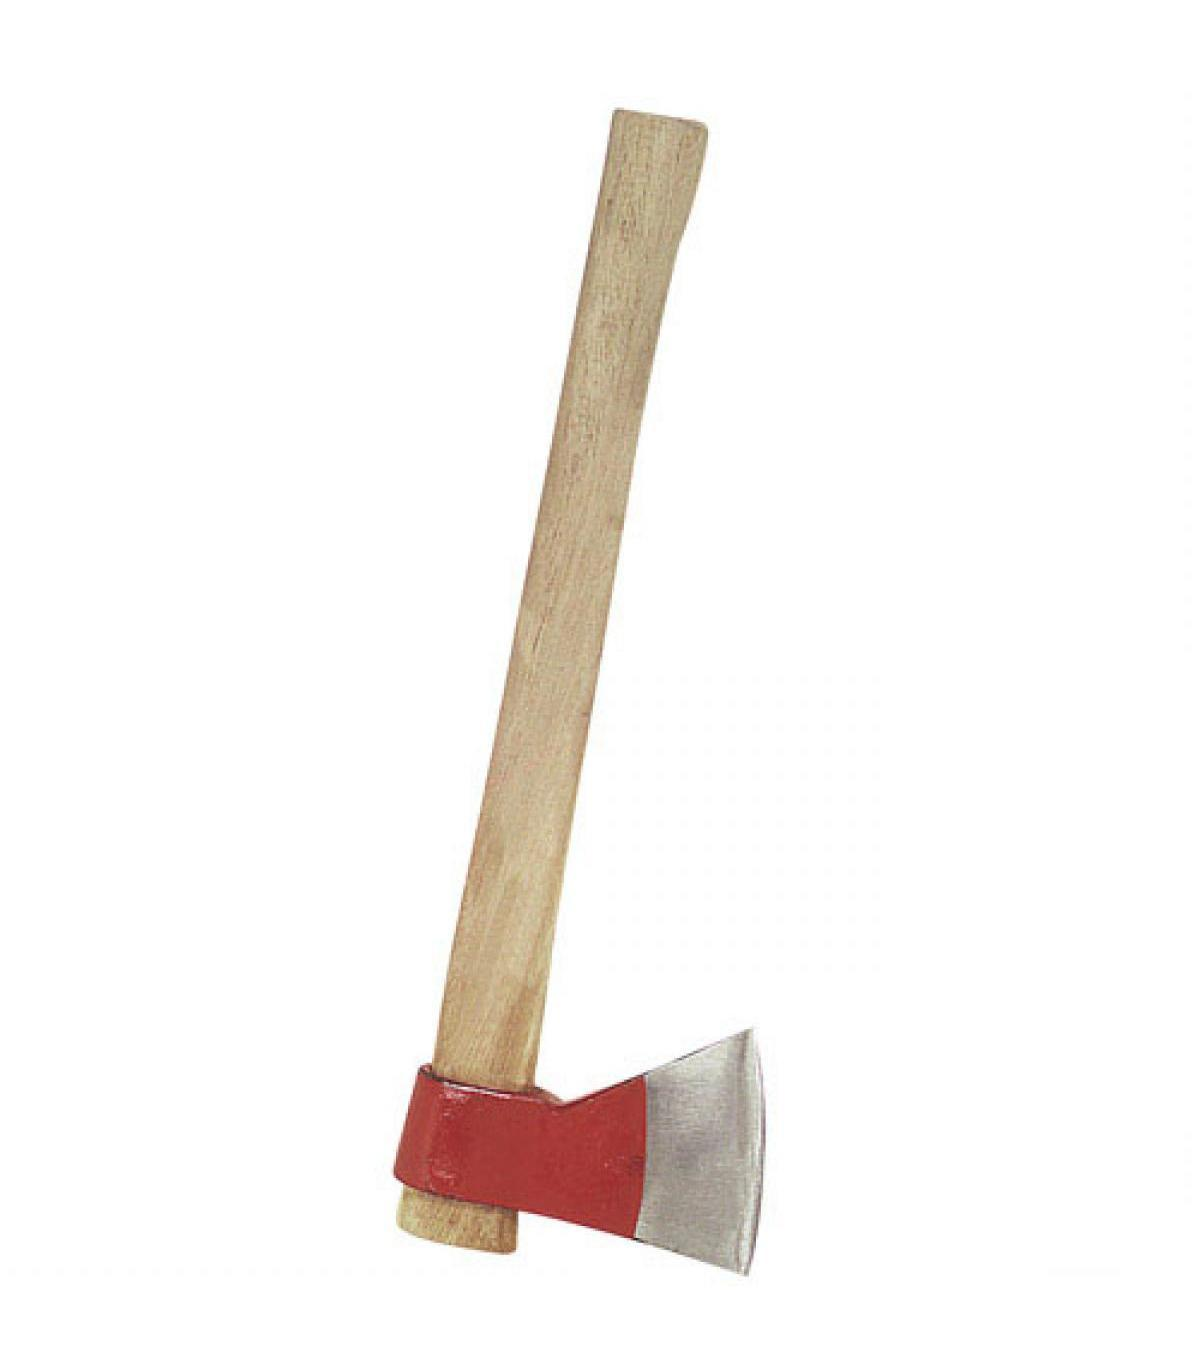machado: (394, 111, 765, 1273)
